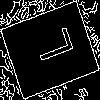L: (25, 25, 75, 68)
